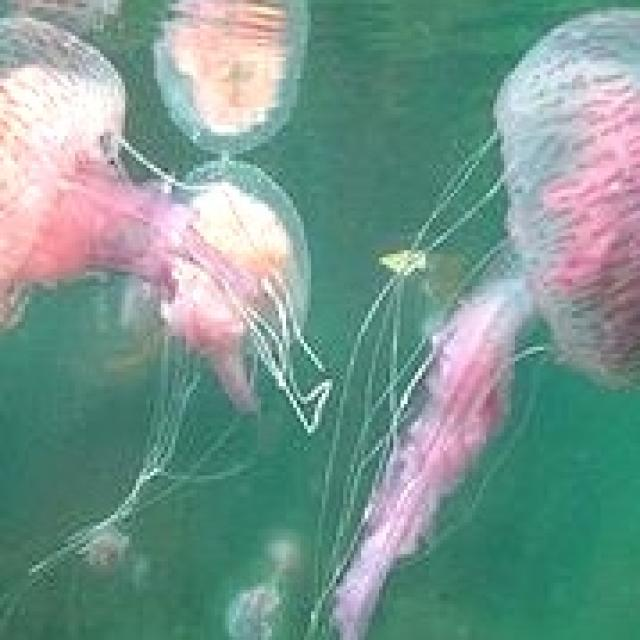Jellyfish: (304, 4, 636, 636)
